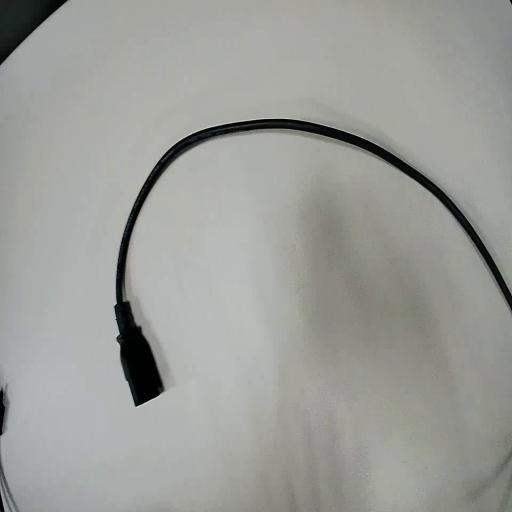wire: (115, 120, 511, 404)
